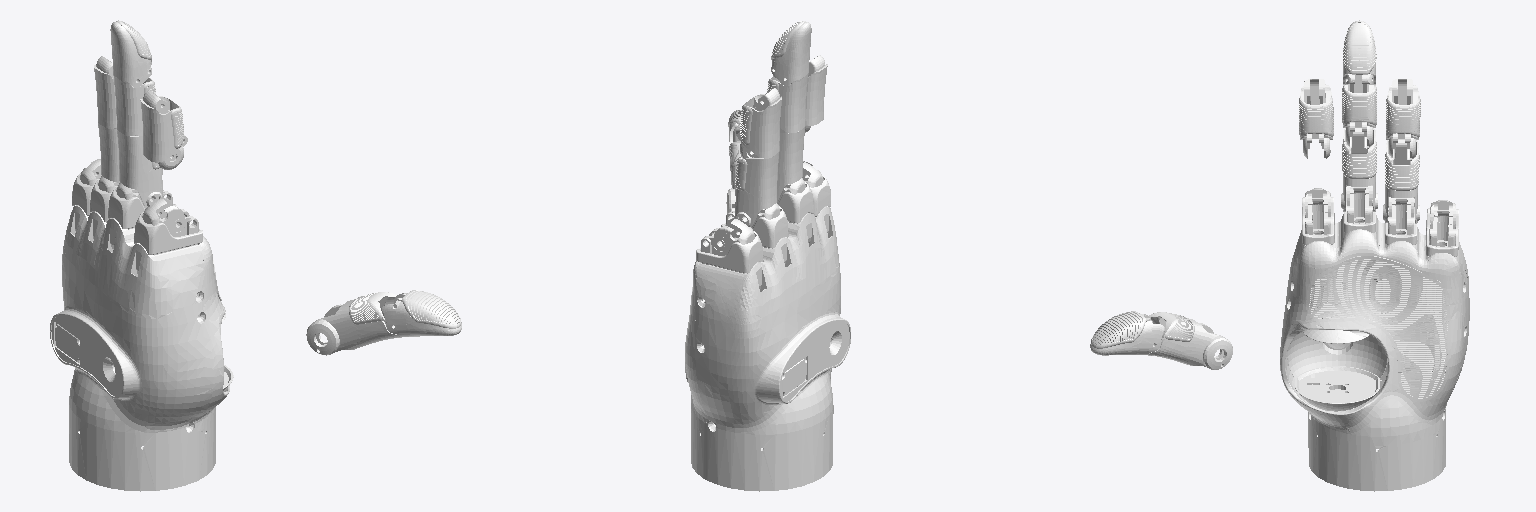
The robot description file, URDF, robot "linkerhand_o7v1_left":
<?xml version="1.0" encoding="utf-8"?>
<!-- This URDF was automatically created by SolidWorks to URDF Exporter! Originally created by Stephen Brawner (brawner@gmail.com) 
     Commit Version: 1.6.0-4-g7f85cfe  Build Version: 1.6.7995.38578
     For more information, please see http://wiki.ros.org/sw_urdf_exporter -->
<robot
  name="linkerhand_o7v1_left">
  <link
    name="hand_base_link">
    <inertial>
      <origin
        xyz="-0.0042500911837508 0.00085680978297864 0.0748400307377518"
        rpy="0 0 0" />
      <mass
        value="0.225124072566834" />
      <inertia
        ixx="0.000307215791868368"
        ixy="-2.62393594835236E-06"
        ixz="-6.32980141818779E-06"
        iyy="0.000204974944876431"
        iyz="3.62195604578169E-06"
        izz="0.000138551118704521" />
    </inertial>
    <visual>
      <origin
        xyz="0 0 0"
        rpy="0 0 0" />
      <geometry>
        <mesh
          filename="meshes/hand_base_link.STL" />
      </geometry>
      <material
        name="">
        <color
          rgba="1 1 1 1" />
      </material>
    </visual>
    <collision>
      <origin
        xyz="0 0 0"
        rpy="0 0 0" />
      <geometry>
        <mesh
          filename="meshes/hand_base_link.STL" />
      </geometry>
    </collision>
  </link>
  <link
    name="thumb_metacarpals_base1">
    <inertial>
      <origin
        xyz="0.0221868758326095 -9.48625995070285E-06 -0.00324883171979469"
        rpy="0 0 0" />
      <mass
        value="0.0115244960032222" />
      <inertia
        ixx="3.08657221406028E-06"
        ixy="2.39576891596808E-09"
        ixz="3.1376074283793E-07"
        iyy="4.37069643376973E-06"
        iyz="1.08562146715063E-09"
        izz="1.95654132689649E-06" />
    </inertial>
    <visual>
      <origin
        xyz="0 0 0"
        rpy="0 0 0" />
      <geometry>
        <mesh
          filename="meshes/thumb_metacarpals_base1.STL" />
      </geometry>
      <material
        name="">
        <color
          rgba="1 1 1 1" />
      </material>
    </visual>
    <collision>
      <origin
        xyz="0 0 0"
        rpy="0 0 0" />
      <geometry>
        <mesh
          filename="meshes/thumb_metacarpals_base1.STL" />
      </geometry>
    </collision>
  </link>
  <joint
    name="thumb_cmc_roll"
    type="revolute">
    <origin
      xyz="-0.016939 -0.018427 0.057465"
      rpy="0 0 0" />
    <parent
      link="hand_base_link" />
    <child
      link="thumb_metacarpals_base1" />
    <axis
      xyz="-1 0 0" />
    <limit
      lower="-0.785"
      upper="0.785"
      effort="100"
      velocity="1" />
  </joint>
  <link
    name="thumb_metacarpals_base2">
    <inertial>
      <origin
        xyz="0.000732158506501421 -0.00116891771237498 -0.00114043413649958"
        rpy="0 0 0" />
      <mass
        value="0.0194012482707974" />
      <inertia
        ixx="3.11023242394477E-06"
        ixy="7.00345951479998E-07"
        ixz="-3.45895864415883E-08"
        iyy="2.43362631795933E-06"
        iyz="5.55699212497148E-08"
        izz="2.77691812675186E-06" />
    </inertial>
    <visual>
      <origin
        xyz="0 0 0"
        rpy="0 0 0" />
      <geometry>
        <mesh
          filename="meshes/thumb_metacarpals_base2.STL" />
      </geometry>
      <material
        name="">
        <color
          rgba="1 1 1 1" />
      </material>
    </visual>
    <collision>
      <origin
        xyz="0 0 0"
        rpy="0 0 0" />
      <geometry>
        <mesh
          filename="meshes/thumb_metacarpals_base2.STL" />
      </geometry>
    </collision>
  </link>
  <joint
    name="thumb_cmc_yaw"
    type="revolute">
    <origin
      xyz="0.029224 0.00012028 0.0020117"
      rpy="0 0 0" />
    <parent
      link="thumb_metacarpals_base1" />
    <child
      link="thumb_metacarpals_base2" />
    <axis
      xyz="0 0 1" />
    <limit
      lower="0"
      upper="1.57"
      effort="100"
      velocity="1" />
  </joint>
  <link
    name="thumb_metacarpals">
    <inertial>
      <origin
        xyz="0.00175928357967789 5.98422066862003E-05 0.0251802708380432"
        rpy="0 0 0" />
      <mass
        value="0.0177522528853587" />
      <inertia
        ixx="2.97620250609612E-06"
        ixy="-1.75606406726447E-10"
        ixz="8.88206077184725E-08"
        iyy="4.02119583080426E-06"
        iyz="-5.14340714112944E-10"
        izz="1.61792798866592E-06" />
    </inertial>
    <visual>
      <origin
        xyz="0 0 0"
        rpy="0 0 0" />
      <geometry>
        <mesh
          filename="meshes/thumb_metacarpals.STL" />
      </geometry>
      <material
        name="">
        <color
          rgba="1 1 1 1" />
      </material>
    </visual>
    <collision>
      <origin
        xyz="0 0 0"
        rpy="0 0 0" />
      <geometry>
        <mesh
          filename="meshes/thumb_metacarpals.STL" />
      </geometry>
    </collision>
  </link>
  <joint
    name="thumb_cmc_pitch"
    type="revolute">
    <origin
      xyz="0.015425 -0.024408 -0.0034929"
      rpy="0 -1.1075 2.1313" />
    <parent
      link="thumb_metacarpals_base2" />
    <child
      link="thumb_metacarpals" />
    <axis
      xyz="0 1 0" />
    <limit
      lower="0"
      upper="0.5285"
      effort="100"
      velocity="1" />
  </joint>
  <link
    name="thumb_proximal">
    <inertial>
      <origin
        xyz="-0.000134514656695575 -6.2245440023978E-06 0.0155657254696806"
        rpy="0 0 0" />
      <mass
        value="0.00522318022645753" />
      <inertia
        ixx="9.25272679777908E-07"
        ixy="8.8733597010757E-12"
        ixz="1.11610235976856E-07"
        iyy="8.23288983910426E-07"
        iyz="-4.13122351934137E-11"
        izz="4.09240194803836E-07" />
    </inertial>
    <visual>
      <origin
        xyz="0 0 0"
        rpy="0 0 0" />
      <geometry>
        <mesh
          filename="meshes/thumb_proximal.STL" />
      </geometry>
      <material
        name="">
        <color
          rgba="1 1 1 1" />
      </material>
    </visual>
    <collision>
      <origin
        xyz="0 0 0"
        rpy="0 0 0" />
      <geometry>
        <mesh
          filename="meshes/thumb_proximal.STL" />
      </geometry>
    </collision>
  </link>
  <joint
    name="thumb_mcp"
    type="revolute">
    <origin
      xyz="0.0049422 0 0.050268"
      rpy="0 0 0" />
    <parent
      link="thumb_metacarpals" />
    <child
      link="thumb_proximal" />
    <axis
      xyz="0 1 0" />
    <limit
      lower="0"
      upper="1.186"
      effort="100"
      velocity="1" />
    <mimic
      joint="thumb_cmc_pitch"
      multiplier="2.24"
      offset="0" />
  </joint>
  <link
    name="thumb_distal">
    <inertial>
      <origin
        xyz="-0.0012828823583598 8.66398637835997E-06 0.0121296195661648"
        rpy="0 0 0" />
      <mass
        value="0.0059927321340954" />
      <inertia
        ixx="3.54974702508419E-07"
        ixy="2.25470558333717E-10"
        ixz="1.02705988899827E-07"
        iyy="3.68385773825653E-07"
        iyz="5.55834292489291E-11"
        izz="2.80219721351633E-07" />
    </inertial>
    <visual>
      <origin
        xyz="0 0 0"
        rpy="0 0 0" />
      <geometry>
        <mesh
          filename="meshes/thumb_distal.STL" />
      </geometry>
      <material
        name="">
        <color
          rgba="1 1 1 1" />
      </material>
    </visual>
    <collision>
      <origin
        xyz="0 0 0"
        rpy="0 0 0" />
      <geometry>
        <mesh
          filename="meshes/thumb_distal.STL" />
      </geometry>
    </collision>
  </link>
  <joint
    name="thumb_ip"
    type="revolute">
    <origin
      xyz="-0.0040391 0 0.036444"
      rpy="0 0 0" />
    <parent
      link="thumb_proximal" />
    <child
      link="thumb_distal" />
    <axis
      xyz="0 1 0" />
    <limit
      lower="0"
      upper="1.256"
      effort="100"
      velocity="1" />
    <mimic
      joint="thumb_cmc_pitch"
      multiplier="2.38"
      offset="0" />
  </joint>
  <link
    name="index_proximal">
    <inertial>
      <origin
        xyz="-0.00325184022307572 -5.73777268036979E-05 0.0195194519488432"
        rpy="0 0 0" />
      <mass
        value="0.00304918852223857" />
      <inertia
        ixx="2.70561430617686E-07"
        ixy="4.04016903074442E-10"
        ixz="3.98546481487138E-08"
        iyy="2.61413228132876E-07"
        iyz="1.27694129235523E-09"
        izz="1.43213403424246E-07" />
    </inertial>
    <visual>
      <origin
        xyz="0 0 0"
        rpy="0 0 0" />
      <geometry>
        <mesh
          filename="meshes/index_proximal.STL" />
      </geometry>
      <material
        name="">
        <color
          rgba="1 1 1 1" />
      </material>
    </visual>
    <collision>
      <origin
        xyz="0 0 0"
        rpy="0 0 0" />
      <geometry>
        <mesh
          filename="meshes/index_proximal.STL" />
      </geometry>
    </collision>
  </link>
  <joint
    name="index_mcp_pitch"
    type="revolute">
    <origin
      xyz="-0.0010899 -0.027484 0.1273"
      rpy="0.017453 0 0" />
    <parent
      link="hand_base_link" />
    <child
      link="index_proximal" />
    <axis
      xyz="0 1 0" />
    <limit
      lower="0"
      upper="1.325"
      effort="100"
      velocity="1" />
  </joint>
  <link
    name="index_middle">
    <inertial>
      <origin
        xyz="-0.00220166605939472 0.000343544227875414 0.0115244041402905"
        rpy="0 0 0" />
      <mass
        value="0.00325826222115125" />
      <inertia
        ixx="2.84903328684065E-07"
        ixy="-1.91220675187704E-09"
        ixz="4.46236233645146E-08"
        iyy="2.60287147871894E-07"
        iyz="4.72747608453597E-09"
        izz="1.33240305815556E-07" />
    </inertial>
    <visual>
      <origin
        xyz="0 0 0"
        rpy="0 0 0" />
      <geometry>
        <mesh
          filename="meshes/index_middle.STL" />
      </geometry>
      <material
        name="">
        <color
          rgba="1 1 1 1" />
      </material>
    </visual>
    <collision>
      <origin
        xyz="0 0 0"
        rpy="0 0 0" />
      <geometry>
        <mesh
          filename="meshes/index_middle.STL" />
      </geometry>
    </collision>
  </link>
  <joint
    name="index_pip"
    type="revolute">
    <origin
      xyz="-0.0033727 0 0.03351"
      rpy="0 0 0" />
    <parent
      link="index_proximal" />
    <child
      link="index_middle" />
    <axis
      xyz="0 1 0" />
    <limit
      lower="0"
      upper="1.57"
      effort="100"
      velocity="1" />
    <mimic
      joint="index_mcp_pitch"
      multiplier="1.18"
      offset="0" />
  </joint>
  <link
    name="index_distal">
    <inertial>
      <origin
        xyz="0.000205192768436009 5.00807908632439E-05 0.0116640269704398"
        rpy="0 0 0" />
      <mass
        value="0.00386914599414329" />
      <inertia
        ixx="2.13092899098193E-07"
        ixy="-4.43659936071928E-10"
        ixz="4.32266496521949E-08"
        iyy="2.07077941254489E-07"
        iyz="3.00868537950707E-09"
        izz="1.20295876651976E-07" />
    </inertial>
    <visual>
      <origin
        xyz="0 0 0"
        rpy="0 0 0" />
      <geometry>
        <mesh
          filename="meshes/index_distal.STL" />
      </geometry>
      <material
        name="">
        <color
          rgba="1 1 1 1" />
      </material>
    </visual>
    <collision>
      <origin
        xyz="0 0 0"
        rpy="0 0 0" />
      <geometry>
        <mesh
          filename="meshes/index_distal.STL" />
      </geometry>
    </collision>
  </link>
  <joint
    name="index_dip"
    type="revolute">
    <origin
      xyz="-0.0050438 0 0.025752"
      rpy="0 0 0" />
    <parent
      link="index_middle" />
    <child
      link="index_distal" />
    <axis
      xyz="0 1 0" />
    <limit
      lower="0"
      upper="1"
      effort="100"
      velocity="1" />
    <mimic
      joint="index_mcp_pitch"
      multiplier="0.7493"
      offset="0" />
  </joint>
  <link
    name="middle_proximal">
    <inertial>
      <origin
        xyz="-0.00325186288012639 -5.73454626350833E-05 0.0195195889004449"
        rpy="0 0 0" />
      <mass
        value="0.00304916574973766" />
      <inertia
        ixx="2.70554051207578E-07"
        ixy="4.03711836861357E-10"
        ixz="3.98537937936656E-08"
        iyy="2.61406398624621E-07"
        iyz="1.278882248156E-09"
        izz="1.43213023085845E-07" />
    </inertial>
    <visual>
      <origin
        xyz="0 0 0"
        rpy="0 0 0" />
      <geometry>
        <mesh
          filename="meshes/middle_proximal.STL" />
      </geometry>
      <material
        name="">
        <color
          rgba="1 1 1 1" />
      </material>
    </visual>
    <collision>
      <origin
        xyz="0 0 0"
        rpy="0 0 0" />
      <geometry>
        <mesh
          filename="meshes/middle_proximal.STL" />
      </geometry>
    </collision>
  </link>
  <joint
    name="middle_mcp_pitch"
    type="revolute">
    <origin
      xyz="-0.0030759 -0.0081771 0.1323"
      rpy="0 0 0" />
    <parent
      link="hand_base_link" />
    <child
      link="middle_proximal" />
    <axis
      xyz="0 1 0" />
    <limit
      lower="0"
      upper="1.325"
      effort="100"
      velocity="1" />
  </joint>
  <link
    name="middle_middle">
    <inertial>
      <origin
        xyz="-0.00220166778232146 0.000343539248883085 0.0115243995791403"
        rpy="0 0 0" />
      <mass
        value="0.00325826090000982" />
      <inertia
        ixx="2.84903242801029E-07"
        ixy="-1.91226349169516E-09"
        ixz="4.46235974644869E-08"
        iyy="2.60287108562876E-07"
        iyz="4.72757371001898E-09"
        izz="1.33240236728541E-07" />
    </inertial>
    <visual>
      <origin
        xyz="0 0 0"
        rpy="0 0 0" />
      <geometry>
        <mesh
          filename="meshes/middle_middle.STL" />
      </geometry>
      <material
        name="">
        <color
          rgba="1 1 1 1" />
      </material>
    </visual>
    <collision>
      <origin
        xyz="0 0 0"
        rpy="0 0 0" />
      <geometry>
        <mesh
          filename="meshes/middle_middle.STL" />
      </geometry>
    </collision>
  </link>
  <joint
    name="middle_pip"
    type="revolute">
    <origin
      xyz="-0.0033727 0 0.03351"
      rpy="0 0 0" />
    <parent
      link="middle_proximal" />
    <child
      link="middle_middle" />
    <axis
      xyz="0 1 0" />
    <limit
      lower="0"
      upper="1.57"
      effort="100"
      velocity="1" />
    <mimic
      joint="middle_mcp_pitch"
      multiplier="1.18"
      offset="0" />
  </joint>
  <link
    name="middle_distal">
    <inertial>
      <origin
        xyz="0.000205178072639707 5.00682687798182E-05 0.0116640598651227"
        rpy="0 0 0" />
      <mass
        value="0.00386915654397527" />
      <inertia
        ixx="2.13094283443978E-07"
        ixy="-4.4383622725015E-10"
        ixz="4.32271566193733E-08"
        iyy="2.07079487486431E-07"
        iyz="3.00914543235198E-09"
        izz="1.20296117946962E-07" />
    </inertial>
    <visual>
      <origin
        xyz="0 0 0"
        rpy="0 0 0" />
      <geometry>
        <mesh
          filename="meshes/middle_distal.STL" />
      </geometry>
      <material
        name="">
        <color
          rgba="1 1 1 1" />
      </material>
    </visual>
    <collision>
      <origin
        xyz="0 0 0"
        rpy="0 0 0" />
      <geometry>
        <mesh
          filename="meshes/middle_distal.STL" />
      </geometry>
    </collision>
  </link>
  <joint
    name="middle_dip"
    type="revolute">
    <origin
      xyz="-0.0050438 0 0.025752"
      rpy="0 0 0" />
    <parent
      link="middle_middle" />
    <child
      link="middle_distal" />
    <axis
      xyz="0 1 0" />
    <limit
      lower="0"
      upper="1"
      effort="100"
      velocity="1" />
    <mimic
      joint="middle_mcp_pitch"
      multiplier="0.7493"
      offset="0" />
  </joint>
  <link
    name="ring_proximal">
    <inertial>
      <origin
        xyz="-0.00325188639109948 -5.73091636886791E-05 0.0195197425412056"
        rpy="0 0 0" />
      <mass
        value="0.00304914173423174" />
      <inertia
        ixx="2.70545905130282E-07"
        ixy="4.03369804356248E-10"
        ixz="3.98528630246444E-08"
        iyy="2.61398848427869E-07"
        iyz="1.28105530251793E-09"
        izz="1.43212636885902E-07" />
    </inertial>
    <visual>
      <origin
        xyz="0 0 0"
        rpy="0 0 0" />
      <geometry>
        <mesh
          filename="meshes/ring_proximal.STL" />
      </geometry>
      <material
        name="">
        <color
          rgba="1 1 1 1" />
      </material>
    </visual>
    <collision>
      <origin
        xyz="0 0 0"
        rpy="0 0 0" />
      <geometry>
        <mesh
          filename="meshes/ring_proximal.STL" />
      </geometry>
    </collision>
  </link>
  <joint
    name="ring_mcp_pitch"
    type="revolute">
    <origin
      xyz="-0.0010899 0.01113 0.1273"
      rpy="-0.017453 0 0" />
    <parent
      link="hand_base_link" />
    <child
      link="ring_proximal" />
    <axis
      xyz="0 1 0" />
    <limit
      lower="0"
      upper="1.325"
      effort="100"
      velocity="1" />
  </joint>
  <link
    name="ring_middle">
    <inertial>
      <origin
        xyz="-0.00220166573650245 0.000343543985173556 0.0115244051126353"
        rpy="0 0 0" />
      <mass
        value="0.00325826270162551" />
      <inertia
        ixx="2.8490335431282E-07"
        ixy="-1.91220861885623E-09"
        ixz="4.46236286956316E-08"
        iyy="2.60287161545827E-07"
        iyz="4.72747837494482E-09"
        izz="1.3324032112194E-07" />
    </inertial>
    <visual>
      <origin
        xyz="0 0 0"
        rpy="0 0 0" />
      <geometry>
        <mesh
          filename="meshes/ring_middle.STL" />
      </geometry>
      <material
        name="">
        <color
          rgba="1 1 1 1" />
      </material>
    </visual>
    <collision>
      <origin
        xyz="0 0 0"
        rpy="0 0 0" />
      <geometry>
        <mesh
          filename="meshes/ring_middle.STL" />
      </geometry>
    </collision>
  </link>
  <joint
    name="ring_pip"
    type="revolute">
    <origin
      xyz="-0.0033727 0 0.03351"
      rpy="0 0 0" />
    <parent
      link="ring_proximal" />
    <child
      link="ring_middle" />
    <axis
      xyz="0 1 0" />
    <limit
      lower="0"
      upper="1.57"
      effort="100"
      velocity="1" />
    <mimic
      joint="ring_mcp_pitch"
      multiplier="1.18"
      offset="0" />
  </joint>
  <link
    name="ring_distal">
    <inertial>
      <origin
        xyz="0.000205171820409959 5.00624731339938E-05 0.0116640697629539"
        rpy="0 0 0" />
      <mass
        value="0.00386915820986361" />
      <inertia
        ixx="2.13094587693163E-07"
        ixy="-4.43940590912624E-10"
        ixz="4.32272330130178E-08"
        iyy="2.07079828868233E-07"
        iyz="3.00935119539752E-09"
        izz="1.20296055752743E-07" />
    </inertial>
    <visual>
      <origin
        xyz="0 0 0"
        rpy="0 0 0" />
      <geometry>
        <mesh
          filename="meshes/ring_distal.STL" />
      </geometry>
      <material
        name="">
        <color
          rgba="1 1 1 1" />
      </material>
    </visual>
    <collision>
      <origin
        xyz="0 0 0"
        rpy="0 0 0" />
      <geometry>
        <mesh
          filename="meshes/ring_distal.STL" />
      </geometry>
    </collision>
  </link>
  <joint
    name="ring_dip"
    type="revolute">
    <origin
      xyz="-0.0050438 0 0.025752"
      rpy="0 0 0" />
    <parent
      link="ring_middle" />
    <child
      link="ring_distal" />
    <axis
      xyz="0 1 0" />
    <limit
      lower="0"
      upper="1"
      effort="100"
      velocity="1" />
    <mimic
      joint="ring_mcp_pitch"
      multiplier="0.7493"
      offset="0" />
  </joint>
  <link
    name="pinky_proximal">
    <inertial>
      <origin
        xyz="-0.00325189370161746 -5.72983166947649E-05 0.0195197823487483"
        rpy="0 0 0" />
      <mass
        value="0.0030491364649747" />
      <inertia
        ixx="2.70544107359494E-07"
        ixy="4.03294066340961E-10"
        ixz="3.98526745300938E-08"
        iyy="2.61397222251281E-07"
        iyz="1.28156767029427E-09"
        izz="1.43212528194326E-07" />
    </inertial>
    <visual>
      <origin
        xyz="0 0 0"
        rpy="0 0 0" />
      <geometry>
        <mesh
          filename="meshes/pinky_proximal.STL" />
      </geometry>
      <material
        name="">
        <color
          rgba="1 1 1 1" />
      </material>
    </visual>
    <collision>
      <origin
        xyz="0 0 0"
        rpy="0 0 0" />
      <geometry>
        <mesh
          filename="meshes/pinky_proximal.STL" />
      </geometry>
    </collision>
  </link>
  <joint
    name="pinky_mcp_pitch"
    type="revolute">
    <origin
      xyz="0.00091015 0.030436 0.12229"
      rpy="-0.034907 0 0" />
    <parent
      link="hand_base_link" />
    <child
      link="pinky_proximal" />
    <axis
      xyz="0 1 0" />
    <limit
      lower="0"
      upper="1.325"
      effort="100"
      velocity="1" />
  </joint>
  <link
    name="pinky_middle">
    <inertial>
      <origin
        xyz="-0.002201665613911 0.000343544066900431 0.0115244051215708"
        rpy="0 0 0" />
      <mass
        value="0.00325826278499646" />
      <inertia
        ixx="2.84903357062453E-07"
        ixy="-1.91220937408046E-09"
        ixz="4.46236295954511E-08"
        iyy="2.60287165262845E-07"
        iyz="4.72747841623595E-09"
        izz="1.33240325394021E-07" />
    </inertial>
    <visual>
      <origin
        xyz="0 0 0"
        rpy="0 0 0" />
      <geometry>
        <mesh
          filename="meshes/pinky_middle.STL" />
      </geometry>
      <material
        name="">
        <color
          rgba="1 1 1 1" />
      </material>
    </visual>
    <collision>
      <origin
        xyz="0 0 0"
        rpy="0 0 0" />
      <geometry>
        <mesh
          filename="meshes/pinky_middle.STL" />
      </geometry>
    </collision>
  </link>
  <joint
    name="pinky_pip"
    type="revolute">
    <origin
      xyz="-0.0033727 0 0.03351"
      rpy="0 0 0" />
    <parent
      link="pinky_proximal" />
    <child
      link="pinky_middle" />
    <axis
      xyz="0 1 0" />
    <limit
      lower="0"
      upper="1.57"
      effort="100"
      velocity="1" />
    <mimic
      joint="pinky_mcp_pitch"
      multiplier="1.18"
      offset="0" />
  </joint>
  <link
    name="pinky_distal">
    <inertial>
      <origin
        xyz="0.000205168748081741 5.00603283008771E-05 0.0116640796497016"
        rpy="0 0 0" />
      <mass
        value="0.00386915855597929" />
      <inertia
        ixx="2.1309463405403E-07"
        ixy="-4.43985775170374E-10"
        ixz="4.32272565907302E-08"
        iyy="2.07079916973927E-07"
        iyz="3.00952443609274E-09"
        izz="1.20295986265221E-07" />
    </inertial>
    <visual>
      <origin
        xyz="0 0 0"
        rpy="0 0 0" />
      <geometry>
        <mesh
          filename="meshes/pinky_distal.STL" />
      </geometry>
      <material
        name="">
        <color
          rgba="1 1 1 1" />
      </material>
    </visual>
    <collision>
      <origin
        xyz="0 0 0"
        rpy="0 0 0" />
      <geometry>
        <mesh
          filename="meshes/pinky_distal.STL" />
      </geometry>
    </collision>
  </link>
  <joint
    name="pinky_dip"
    type="revolute">
    <origin
      xyz="-0.0050438 0 0.025752"
      rpy="0 0 0" />
    <parent
      link="pinky_middle" />
    <child
      link="pinky_distal" />
    <axis
      xyz="0 1 0" />
    <limit
      lower="0"
      upper="1"
      effort="100"
      velocity="1" />
    <mimic
      joint="pinky_mcp_pitch"
      multiplier="0.7493"
      offset="0" />
  </joint>
</robot>

--- What the picture shows (computed from the rendered views, not written in the file) ---
The picture shows the robot from 3 angles, left to right: view 1: azimuth 30°, elevation 25°; view 2: azimuth 150°, elevation 25°; view 3: azimuth 270°, elevation 25°; orthographic projection.
Model linkerhand_o7v1_left with 18 links and 17 joints (17 revolute), rooted at hand_base_link, posed every joint at zero.
Visible links, largest first — view 1: hand_base_link, thumb_proximal, thumb_distal, index_middle, middle_proximal, middle_distal, middle_middle, ring_middle, ring_proximal; view 2: hand_base_link, ring_middle, ring_proximal, middle_distal, middle_middle, middle_proximal, index_middle, thumb_proximal; view 3: hand_base_link, thumb_metacarpals_base1, thumb_proximal, thumb_distal, index_middle, ring_middle, middle_proximal, ring_proximal, middle_distal, middle_middle.
Link boxes in pixels (x1,y1,x2,y2): hand_base_link: (50, 159, 229, 491); thumb_proximal: (306, 292, 401, 355); thumb_distal: (381, 290, 461, 336); index_middle: (140, 90, 187, 169); middle_proximal: (117, 130, 162, 207); middle_distal: (110, 20, 151, 87); middle_middle: (113, 75, 155, 135); ring_middle: (94, 56, 116, 128); ring_proximal: (98, 123, 119, 182); hand_base_link: (685, 161, 850, 491); ring_middle: (737, 88, 781, 158); ring_proximal: (735, 151, 779, 227); middle_distal: (771, 21, 811, 85); middle_middle: (767, 73, 808, 132); middle_proximal: (777, 127, 804, 201); index_middle: (805, 55, 827, 132); thumb_proximal: (726, 142, 741, 216); hand_base_link: (1280, 186, 1469, 491); thumb_metacarpals_base1: (1287, 330, 1387, 411); thumb_proximal: (1148, 312, 1232, 369); thumb_distal: (1090, 311, 1164, 355); index_middle: (1299, 79, 1333, 158); ring_middle: (1386, 79, 1420, 158); middle_proximal: (1341, 127, 1377, 211); ring_proximal: (1383, 133, 1419, 223); middle_distal: (1343, 20, 1376, 84); middle_middle: (1342, 75, 1376, 146).
Size in the robot's own frame: 0.119 by 0.176 by 0.218 metres.
10 mesh visuals loaded from 18 distinct referenced files (10 binary STL); not drawn: 8 (file found but could not be loaded).
